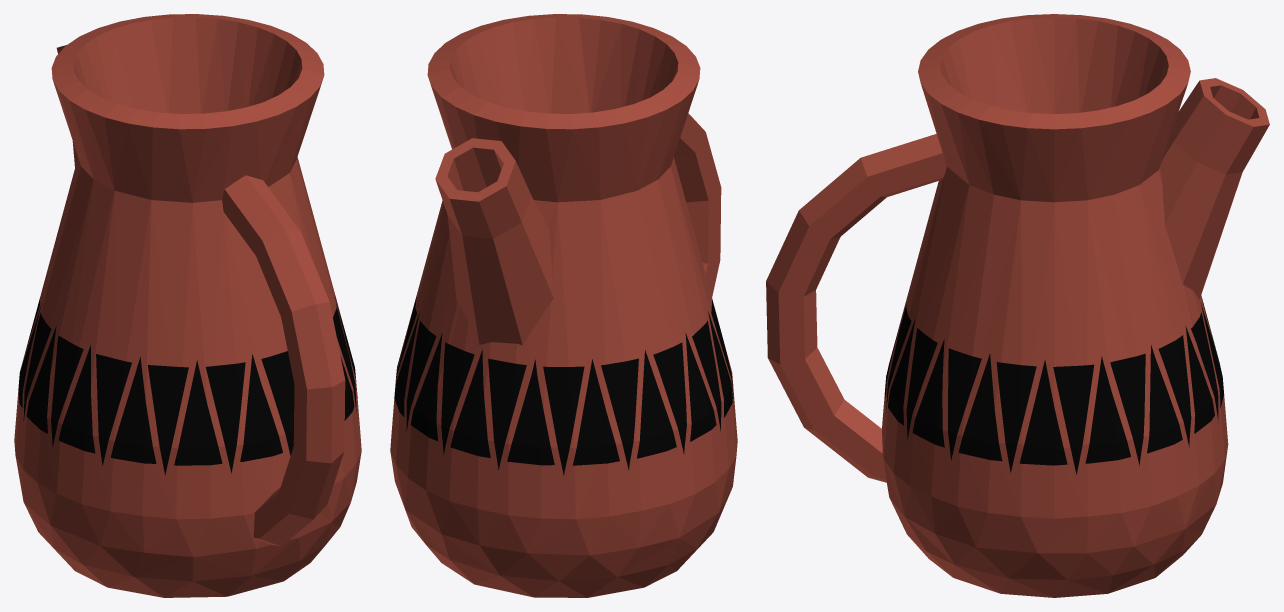
File: Pottery 24_3.fbx
The picture shows the model from 3 angles, left to right: view 1: azimuth 30°, elevation 25°; view 2: azimuth 150°, elevation 25°; view 3: azimuth 270°, elevation 25°; orthographic projection.
Parts seen in each view (by area): view 1: Pottery 24_3; view 2: Pottery 24_3; view 3: Pottery 24_3.
Boxes of the visible parts, x1,y1,x2,y2 form: Pottery 24_3: [14, 14, 361, 597]; Pottery 24_3: [390, 14, 737, 597]; Pottery 24_3: [766, 14, 1269, 597].
Bounding box in the file's own units: 30.34 × 45.97 × 43.99.
